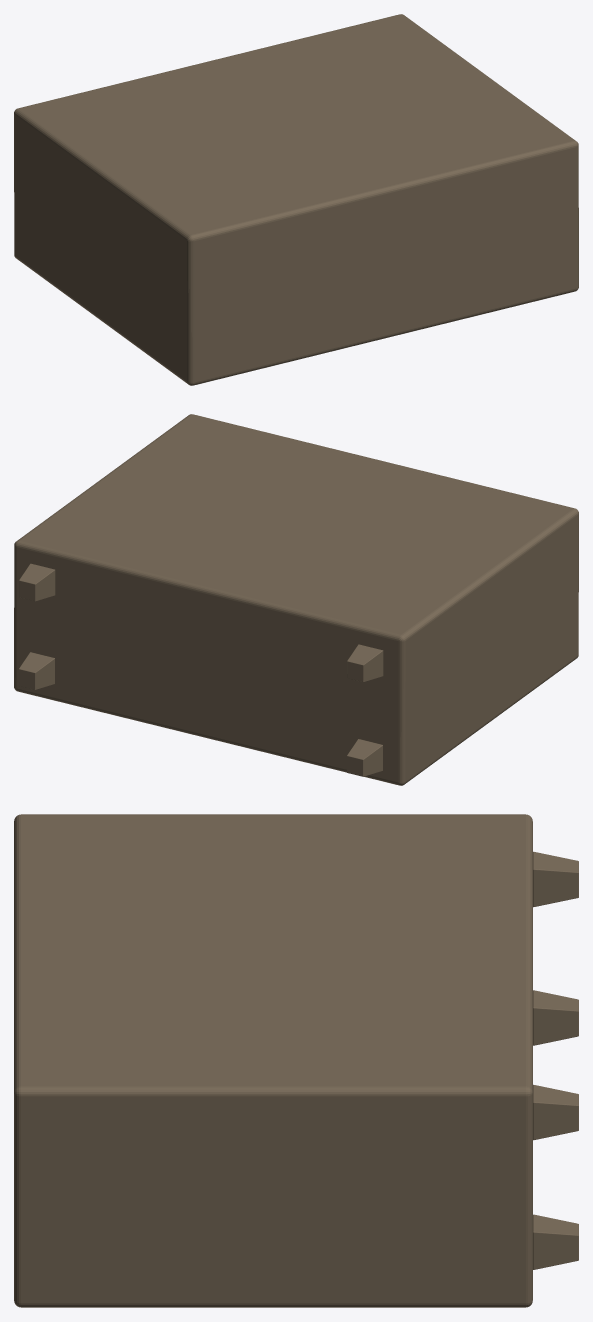
File: Drawer.fbx
3 views of the same model, one above another, from view 1: azimuth 30°, elevation 25°; view 2: azimuth 150°, elevation 25°; view 3: azimuth 270°, elevation 25° (orthographic). The views are drawn at different scales.
Parts seen in each view (by area): view 1: MainBody; view 2: MainBody; view 3: MainBody.
Boxes of the visible parts, x1,y1,x2,y2 form: MainBody: (14,14,578,385); MainBody: (14,414,578,785); MainBody: (14,814,578,1307).
Bounding box in the file's own units: 13.08 × 5.06 × 11.18.
